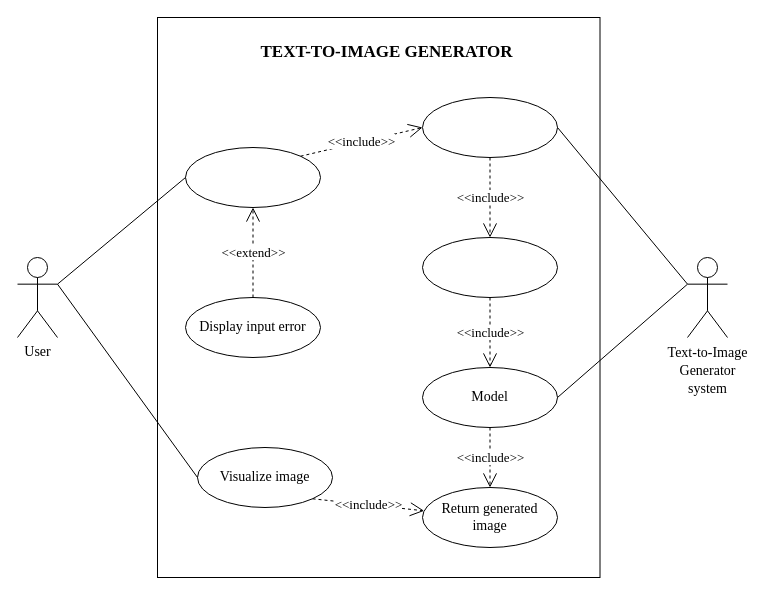
The diagram is 765 pixels wide and 595 high, and some of its shapes have lost their labels. The shapes that lost their labels are listed below. From the top down, each one's centre as x and y in pixels, then its label:
At point 490,127: "Validate input".
At point 252,177: "Provide input prompt".
At point 490,267: "Generate Image".
